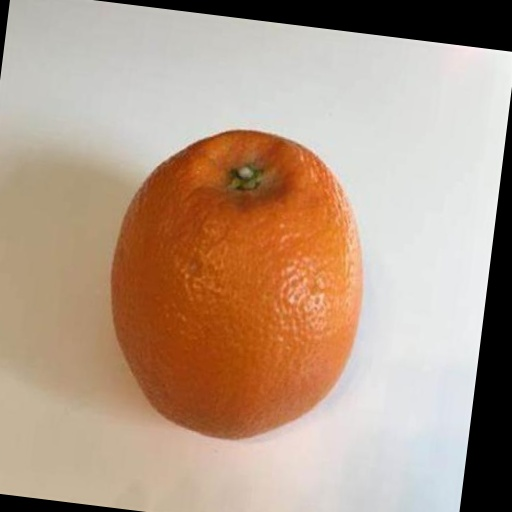fruit: (111, 131, 362, 438)
